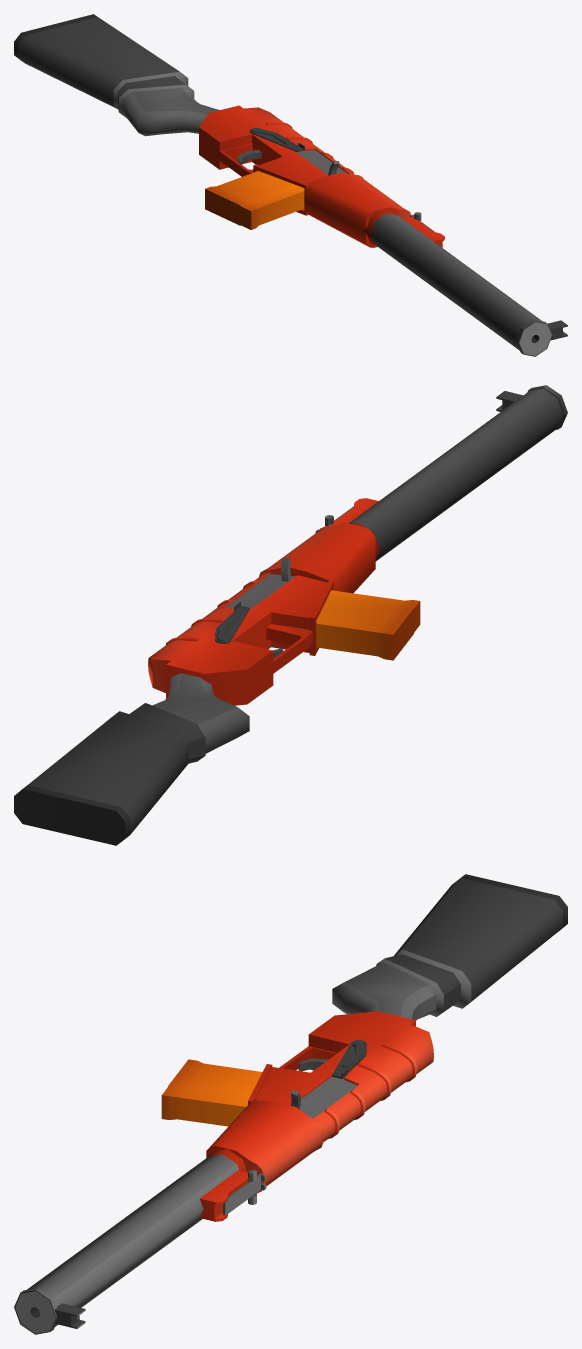
Rendered from Shotgun_LVL1.fbx.
3 renders of one model, top to bottom at view 1: azimuth 30°, elevation 25°; view 2: azimuth 150°, elevation 25°; view 3: azimuth 330°, elevation 25°, orthographic. The views are drawn at different scales.
Parts seen in each view (by area): view 1: Object004; view 2: Object004; view 3: Object004.
Part boxes in pixels (bbox=[...]): Object004: bbox=[14, 14, 567, 356]; Object004: bbox=[14, 385, 567, 845]; Object004: bbox=[14, 874, 567, 1334].
Size of the model in its own units: 25.36 by 8.3 by 137.
